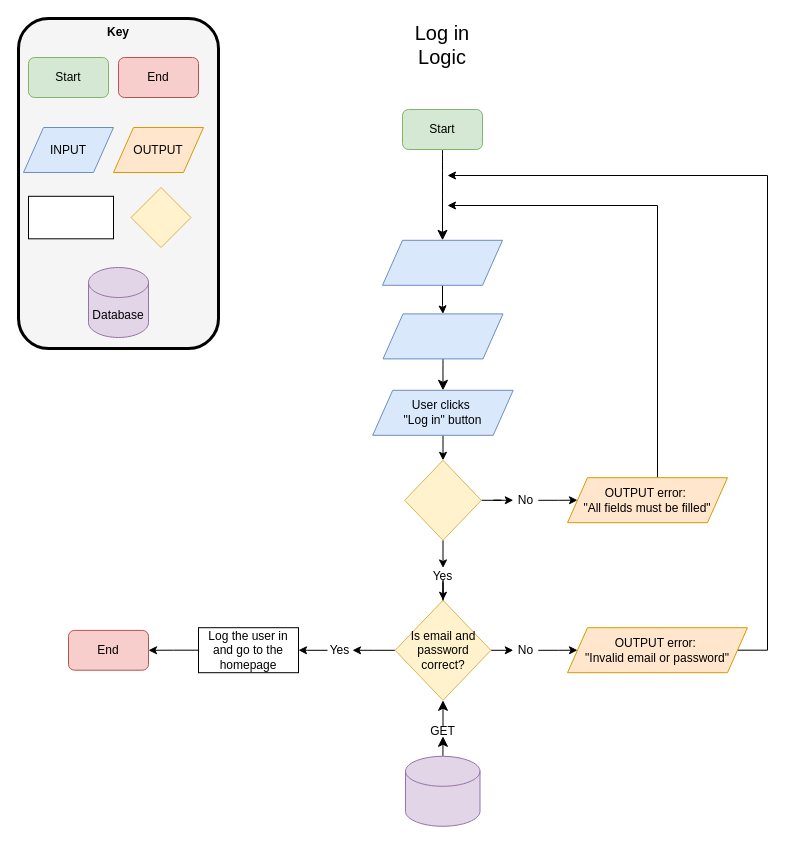
Some shapes in this 793 by 844 pixel diagram are drawn without their labels. Here are the shapes that lost their labels. From the top down, the box of each, then its label:
(28, 195, 114, 239): Process
(130, 186, 191, 248): Decision
(382, 239, 502, 285): INPUT email
(382, 313, 503, 359): INPUT password
(404, 459, 481, 540): Are both fields filled in?
(404, 755, 480, 826): AspNetUsers
